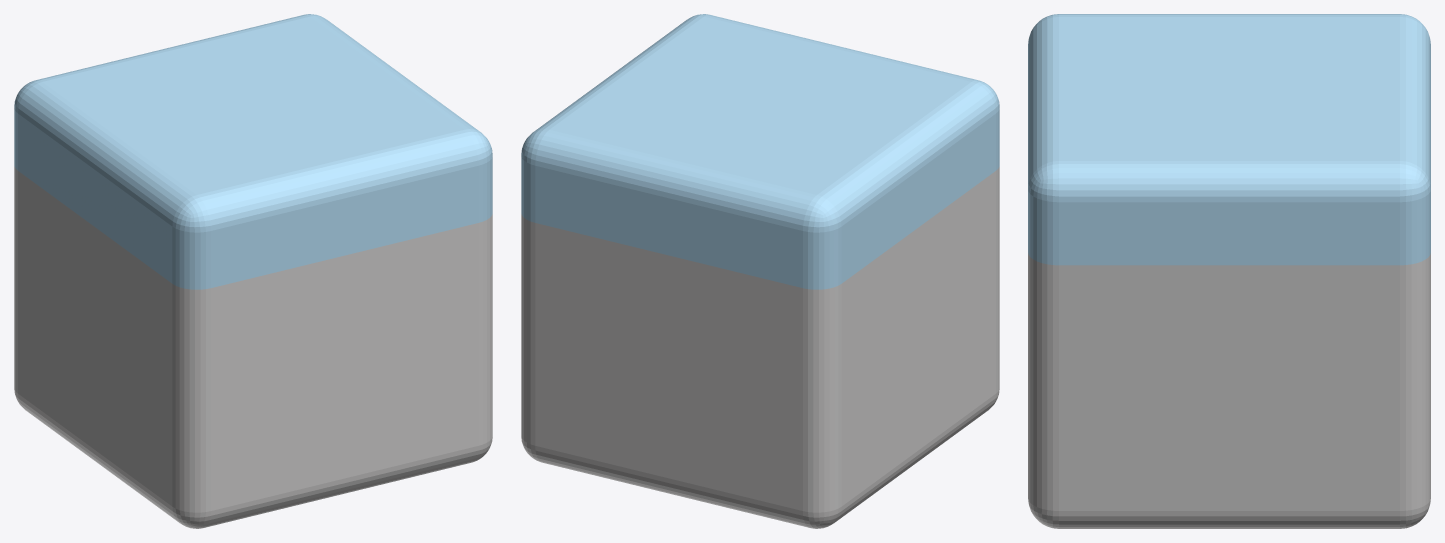
File: bip_jam_ice_cube.glb
3 renders of one model, left to right at view 1: azimuth 30°, elevation 25°; view 2: azimuth 150°, elevation 25°; view 3: azimuth 270°, elevation 25°, orthographic. The views are drawn at different scales.
Visible parts, largest first — view 1: ice cube; view 2: ice cube; view 3: ice cube.
Part boxes in pixels (left/top/right/bottom): ice cube: left=14, top=14, right=492, bottom=528; ice cube: left=521, top=14, right=999, bottom=528; ice cube: left=1028, top=14, right=1430, bottom=528.
Bounding box in the file's own units: 1.03 × 1.03 × 1.03.
